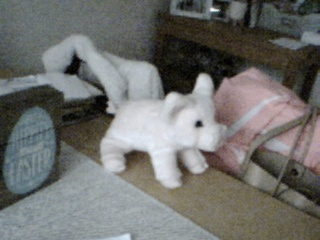piggy: (97, 71, 229, 191)
